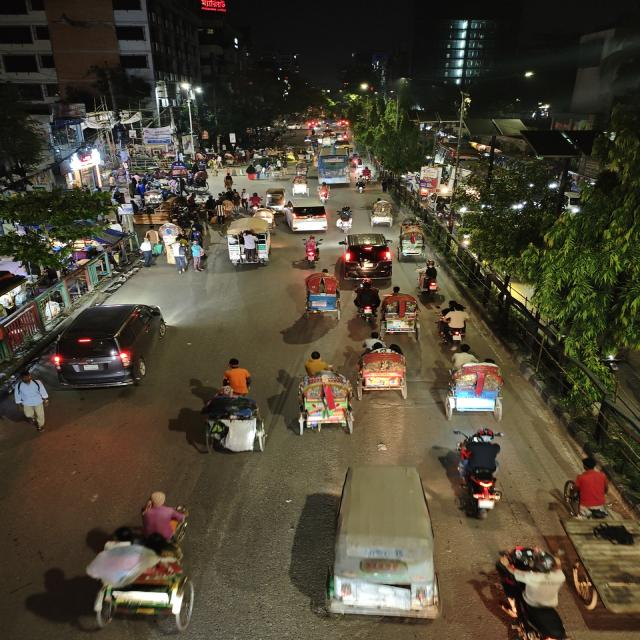bus: (316, 153, 352, 184)
car: (50, 299, 172, 393), (339, 233, 395, 281), (279, 198, 329, 235), (0, 269, 29, 321)
cng: (330, 462, 445, 626)
human_hauler: (220, 217, 275, 269)
motorcycle: (481, 540, 589, 640), (450, 426, 511, 518), (434, 300, 474, 344), (415, 262, 447, 306), (351, 279, 381, 323), (298, 235, 324, 268), (333, 205, 356, 233), (315, 182, 332, 204), (354, 179, 368, 195)
pedestrian: (10, 369, 53, 433), (144, 225, 166, 259), (187, 238, 209, 270), (171, 238, 190, 274), (208, 196, 228, 224), (138, 237, 155, 268), (221, 172, 236, 192)
rickshaw: (66, 517, 210, 637), (560, 454, 640, 631), (184, 375, 283, 460), (438, 343, 512, 423), (290, 349, 355, 435), (350, 339, 414, 401), (298, 269, 344, 321), (379, 289, 423, 340), (395, 218, 429, 261), (366, 199, 394, 229), (265, 188, 287, 210), (290, 175, 310, 197), (269, 162, 287, 180), (294, 162, 312, 176)
